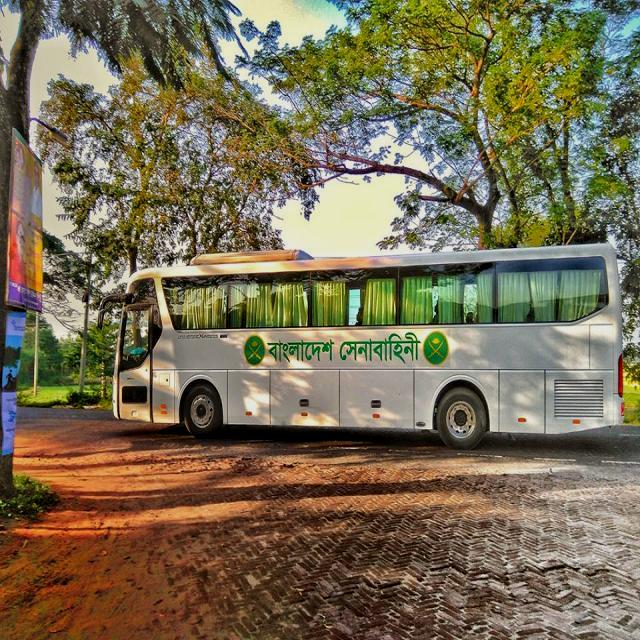bus: (96, 243, 629, 454)
